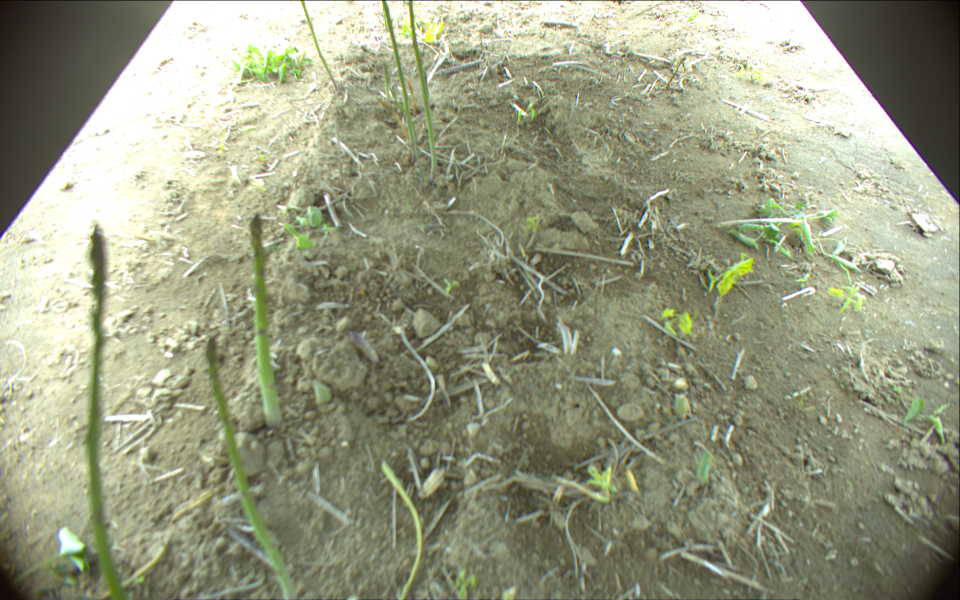aspa: (202, 335, 302, 600), (86, 223, 131, 599), (249, 211, 285, 428), (380, 461, 424, 600), (378, 1, 417, 154), (408, 1, 440, 182), (299, 1, 336, 89), (383, 62, 391, 106)
